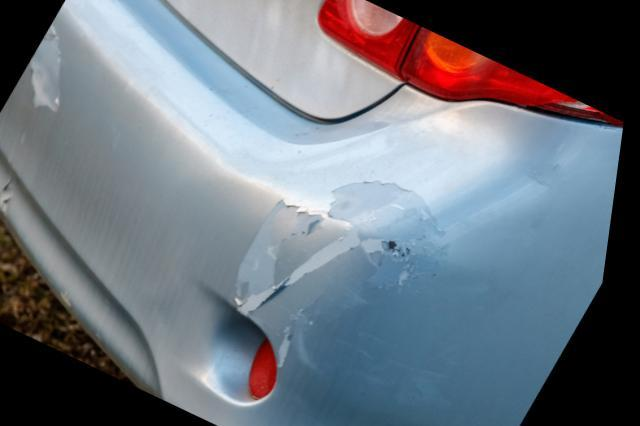scratch: (236, 179, 469, 374)
